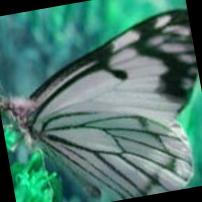butterfly: (0, 10, 198, 199)
